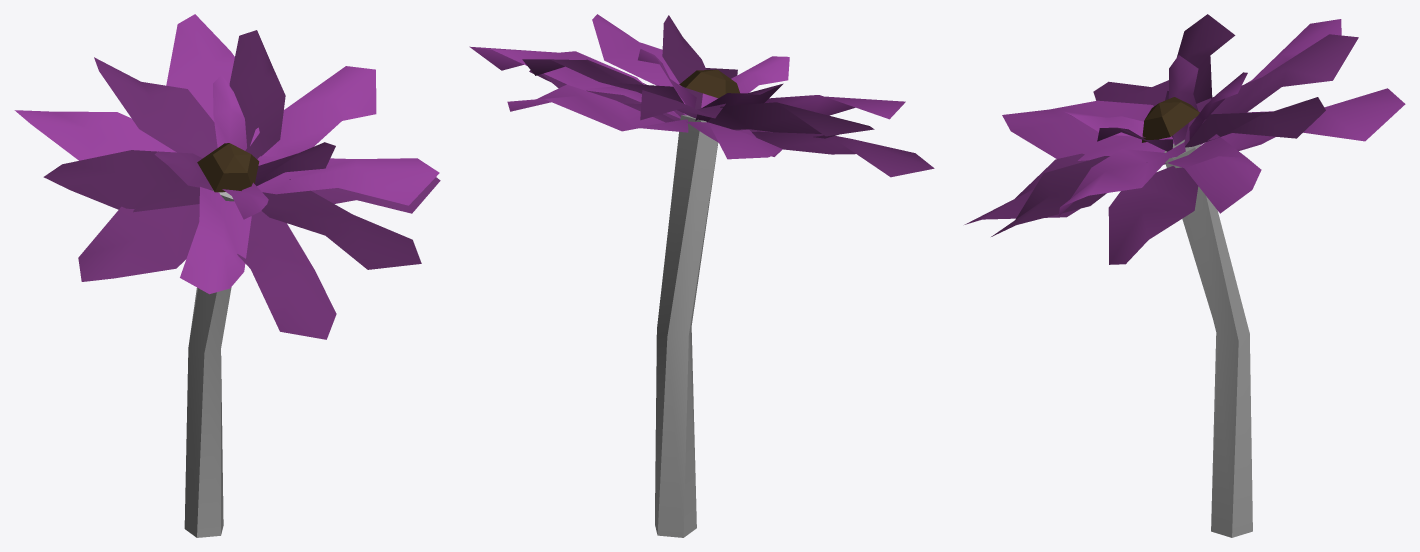
File: Flower_Pink.fbx
3 renders of one model, left to right at view 1: azimuth 30°, elevation 25°; view 2: azimuth 150°, elevation 25°; view 3: azimuth 270°, elevation 25°, orthographic. The views are drawn at different scales.
Visible parts, largest first — view 1: pCylinder1, pPlane1, pPlane4, pPlane6, pPlane8, pPlane9, pPlane11, pPlane7, pPlane10, pPlane12, pPlane3, pPlane5 (+6 smaller); view 2: pCylinder1, pPlane6, pPlane4, pPlane5, pPlane7, pPlane11, pPlane12, pPlane10, pPlane3, pPlane13, pPlane14, pPlane9 (+4 smaller); view 3: pCylinder1, pPlane10, pPlane2, pPlane9, pPlane5, pPlane7, pPlane12, pPlane11, pPlane8, pPlane6, pSphere1, pPlane3 (+6 smaller).
Boxes of the visible parts, <box> form: pCylinder1: <box>184,190,233,537</box>; pPlane1: <box>237,211,336,339</box>; pPlane4: <box>78,204,199,281</box>; pPlane6: <box>43,150,212,212</box>; pPlane8: <box>261,179,421,269</box>; pPlane9: <box>94,57,217,158</box>; pPlane11: <box>257,156,439,205</box>; pPlane7: <box>250,66,376,156</box>; pPlane10: <box>180,187,251,294</box>; pPlane12: <box>229,30,285,159</box>; pPlane3: <box>14,110,176,160</box>; pPlane5: <box>166,14,234,121</box>; pCylinder1: <box>655,115,718,537</box>; pPlane6: <box>708,102,874,138</box>; pPlane4: <box>733,129,934,177</box>; pPlane5: <box>507,84,688,132</box>; pPlane7: <box>469,46,680,118</box>; pPlane11: <box>592,14,688,115</box>; pPlane12: <box>522,59,683,103</box>; pPlane10: <box>764,95,905,119</box>; pPlane3: <box>686,121,782,159</box>; pPlane13: <box>662,15,706,109</box>; pPlane14: <box>701,56,789,107</box>; pPlane9: <box>640,90,725,120</box>; pCylinder1: <box>1164,139,1252,537</box>; pPlane10: <box>1002,100,1174,160</box>; pPlane2: <box>1108,166,1198,264</box>; pPlane9: <box>1184,34,1358,145</box>; pPlane5: <box>1221,88,1405,150</box>; pPlane7: <box>1167,134,1261,213</box>; pPlane12: <box>1185,97,1325,147</box>; pPlane11: <box>1058,142,1185,216</box>; pPlane8: <box>991,156,1109,236</box>; pPlane6: <box>1165,14,1235,138</box>; pSphere1: <box>1142,97,1199,142</box>; pPlane3: <box>1200,19,1341,144</box>.
Size of the model in its own units: 60.26 by 69.97 by 59.65.
